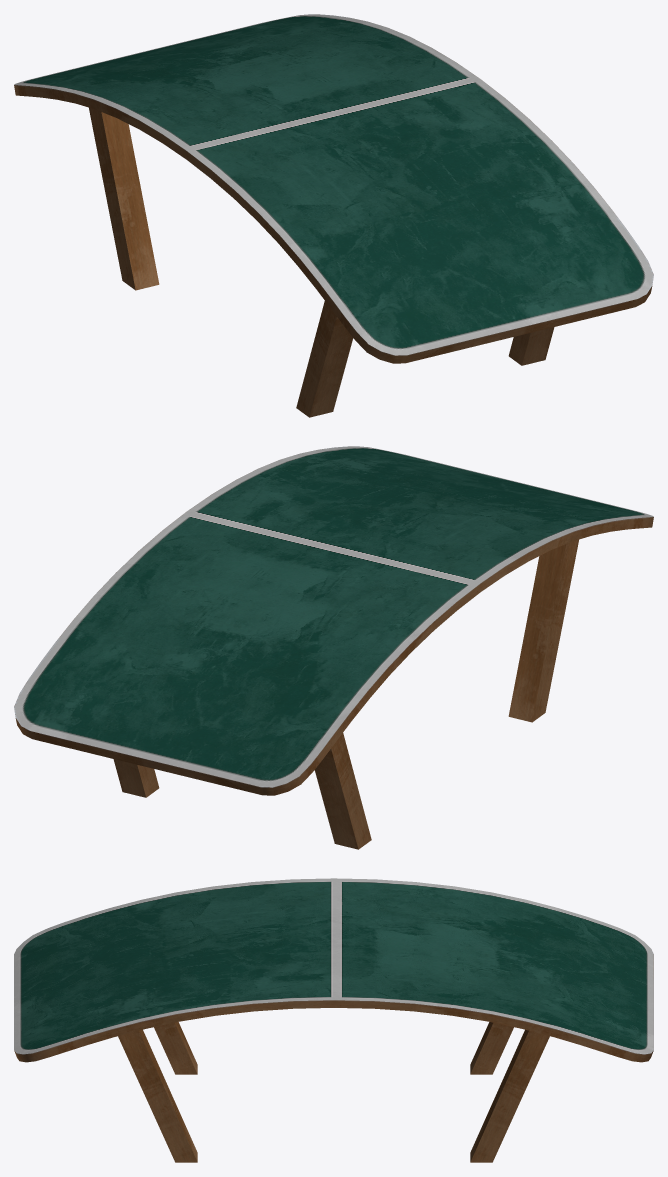
The model's file is MB_Tennis_Table.fbx.
3 views of the same model, one above another, from view 1: azimuth 30°, elevation 25°; view 2: azimuth 150°, elevation 25°; view 3: azimuth 270°, elevation 25° (orthographic). The views are drawn at different scales.
Parts seen in each view (by area): view 1: MB_Tennis_Table_LOD0; view 2: MB_Tennis_Table_LOD0; view 3: MB_Tennis_Table_LOD0.
Part boxes in pixels (box(x1,y1,x2,y2)): MB_Tennis_Table_LOD0: box(14, 14, 653, 417); MB_Tennis_Table_LOD0: box(14, 446, 653, 849); MB_Tennis_Table_LOD0: box(14, 878, 653, 1162).
Size of what is drawn, in the model's own units: 110 by 73.56 by 245.
